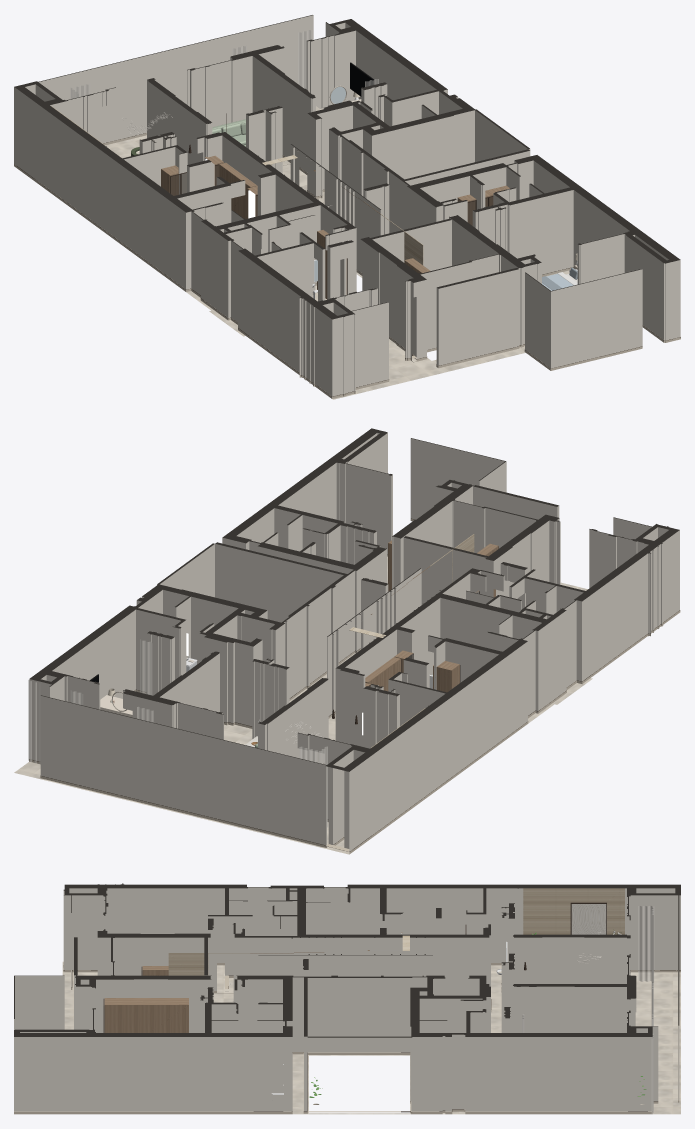
File: ff_house_v12.glb
3 renders of one model, top to bottom at view 1: azimuth 30°, elevation 25°; view 2: azimuth 150°, elevation 25°; view 3: azimuth 270°, elevation 25°, orthographic. The views are drawn at different scales.
Visible parts, largest first — view 1: MeshStandardMaterial_14, MeshStandardMaterial_15, MeshStandardMaterial_1, MeshStandardMaterial_7, MeshStandardMaterial_16, MeshStandardMaterial_104, MeshStandardMaterial_87; view 2: MeshStandardMaterial_14, MeshStandardMaterial_15, MeshStandardMaterial_16, MeshStandardMaterial_104, MeshStandardMaterial_1, MeshStandardMaterial_7; view 3: MeshStandardMaterial_14, MeshStandardMaterial_15, MeshStandardMaterial_1, MeshStandardMaterial_5, MeshStandardMaterial_16, MeshStandardMaterial_7, MeshStandardMaterial_104, MeshStandardMaterial_91.
Part boxes in pixels (x1,y1,x2,y2): MeshStandardMaterial_14: (14,15,680,396); MeshStandardMaterial_15: (14,15,680,319); MeshStandardMaterial_1: (105,135,569,399); MeshStandardMaterial_7: (161,155,509,299); MeshStandardMaterial_16: (14,133,680,398); MeshStandardMaterial_104: (70,30,378,98); MeshStandardMaterial_87: (170,165,493,294); MeshStandardMaterial_14: (29,432,679,853); MeshStandardMaterial_15: (29,428,679,771); MeshStandardMaterial_16: (29,518,680,853); MeshStandardMaterial_104: (28,639,327,827); MeshStandardMaterial_1: (14,556,680,854); MeshStandardMaterial_7: (365,540,498,692); MeshStandardMaterial_14: (14,887,680,1111); MeshStandardMaterial_15: (14,883,680,1037); MeshStandardMaterial_1: (62,961,680,1114); MeshStandardMaterial_5: (168,888,624,975); MeshStandardMaterial_16: (14,963,680,1114); MeshStandardMaterial_7: (104,932,402,1032); MeshStandardMaterial_104: (522,905,654,1113); MeshStandardMaterial_91: (571,904,606,934).
Size of the model in its own units: 12.9 by 3.02 by 23.57.
104 materials, 16 textured.
